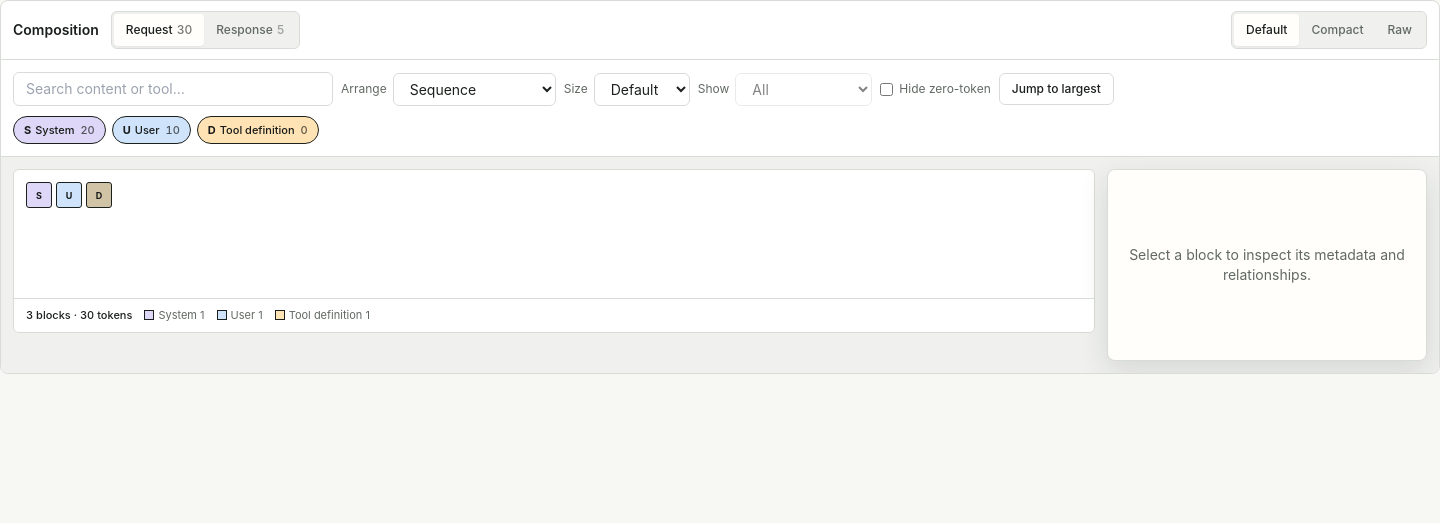
RequestWorkbench › shows canonical and original wire JSON separately for reconstructed threads
Click the button "Raw" at (1400, 30), box [1376,14,1424,46]
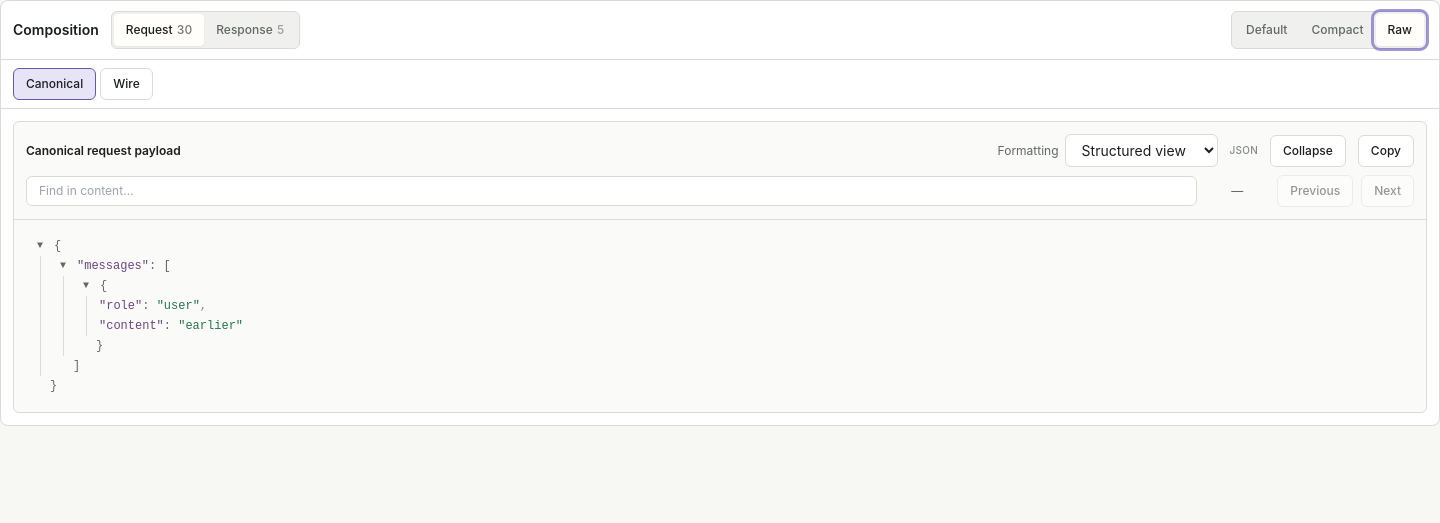
Expected: the search field named "Search canonical request payload" is shown, [26,176,1197,206]
Expected: the text "\"earlier\"" is shown, [178,319,243,333]
Click the button "Wire" at (126, 84), box [100,68,153,100]
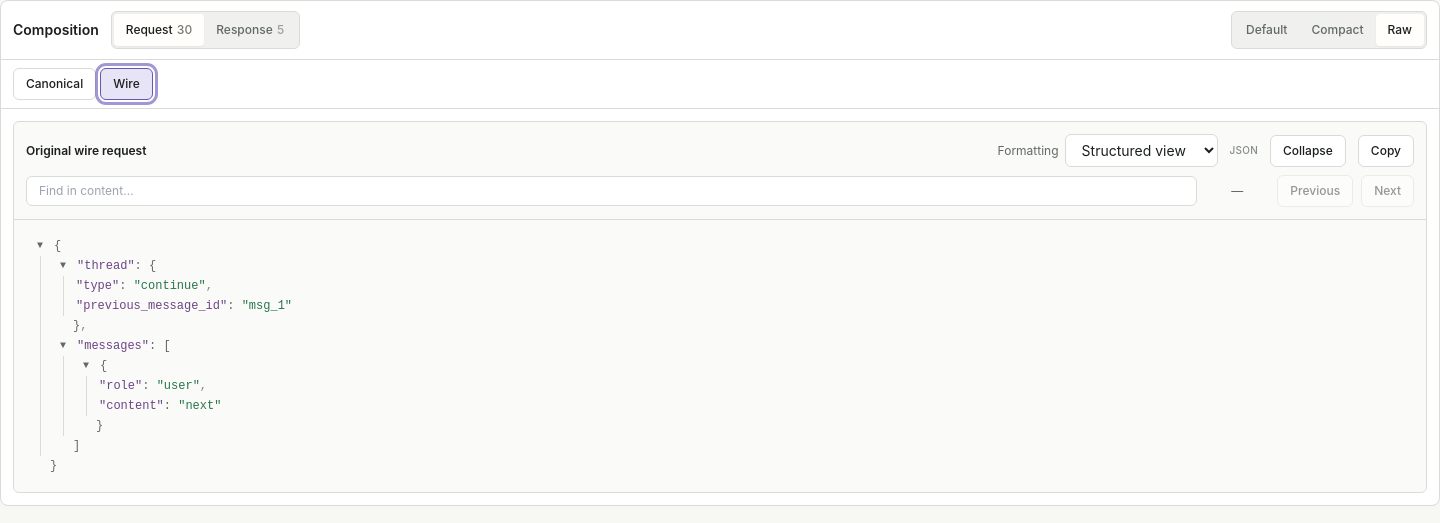
Expected: the search field named "Search original wire request" is shown, [26,176,1197,206]
Expected: the text "\"previous_message_id\"" is shown, [76,299,227,313]
Expected: the text "\"earlier\"" is gone
